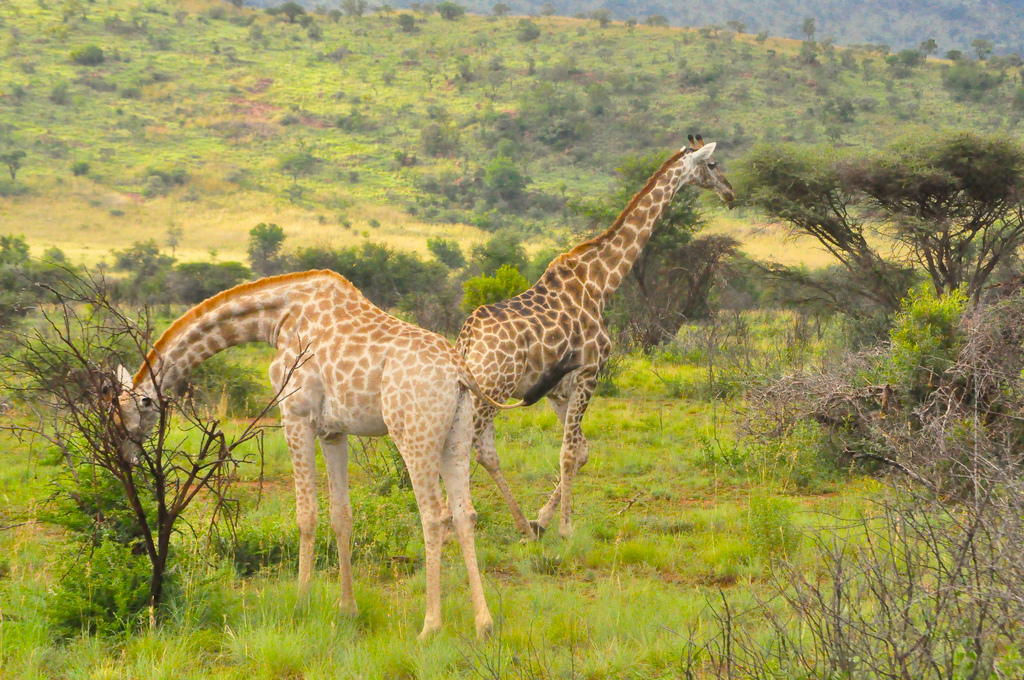giraffe: (59, 274, 502, 639), (456, 122, 755, 543)
